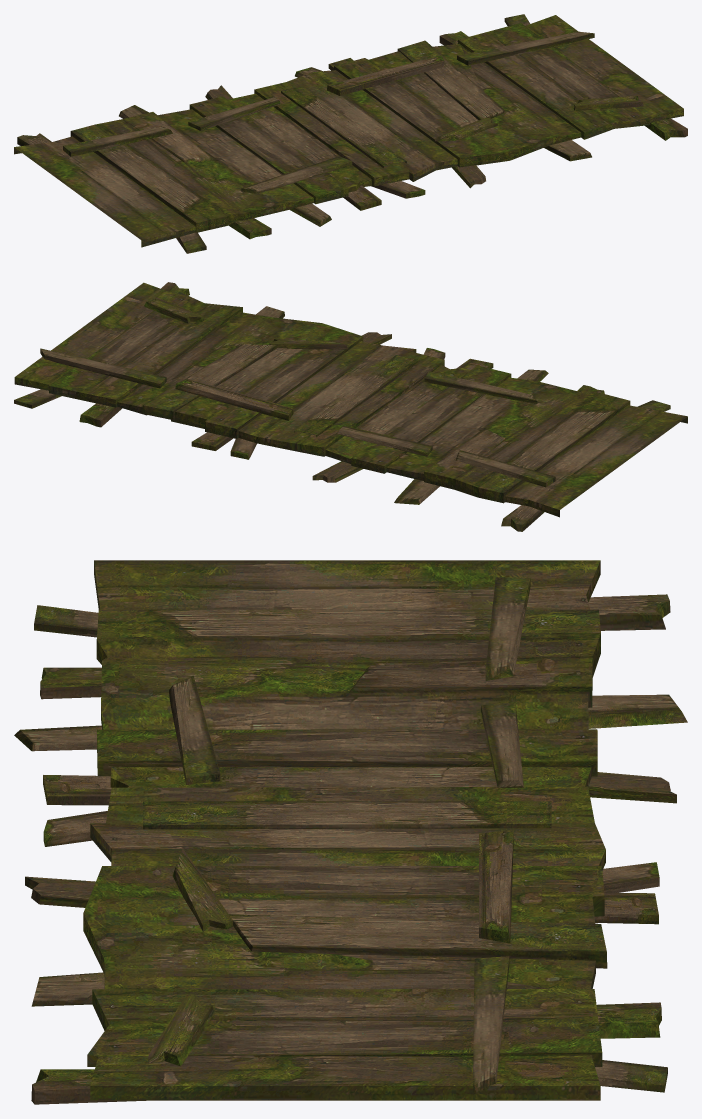
File: zz_qiao_1.FBX
3 views of the same model, one above another, from view 1: azimuth 30°, elevation 25°; view 2: azimuth 150°, elevation 25°; view 3: azimuth 270°, elevation 25° (orthographic). The views are drawn at different scales.
Visible parts, largest first — view 1: zz_qiao_1; view 2: zz_qiao_1; view 3: zz_qiao_1.
Part boxes in pixels (x1,y1,x2,y2): zz_qiao_1: (14, 14, 687, 253); zz_qiao_1: (14, 282, 687, 531); zz_qiao_1: (14, 560, 687, 1104).
Size of the model in its own units: 1109 by 47.97 by 593.
